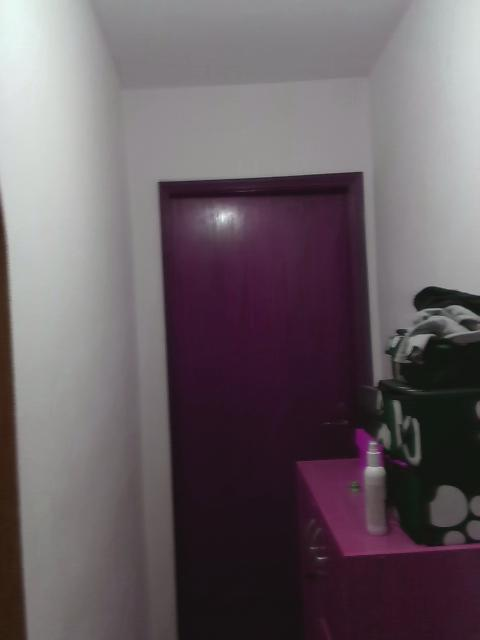closed_door: (152, 170, 379, 638)
